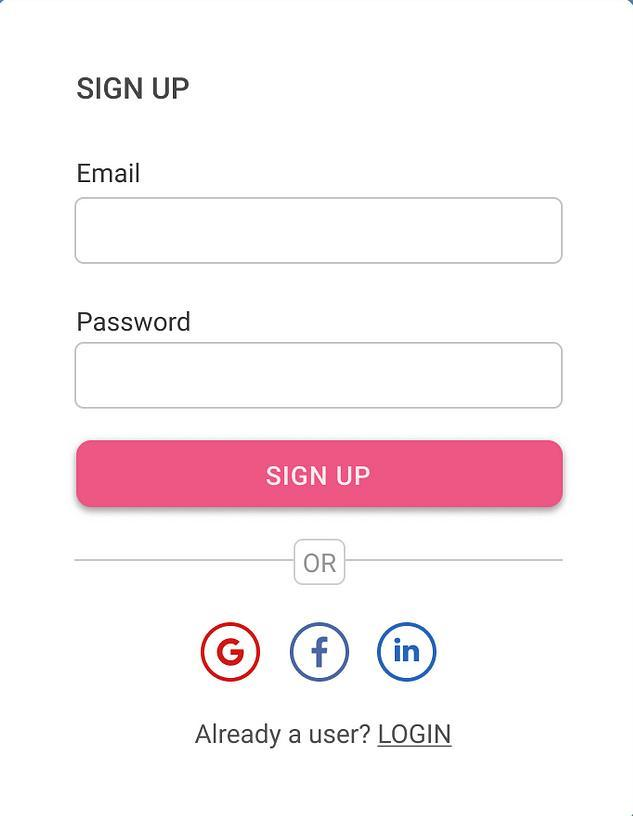button: (76, 440, 564, 510)
icon: (376, 617, 439, 685), (291, 620, 351, 684), (201, 621, 260, 684)
input: (76, 341, 565, 411), (76, 199, 564, 265), (75, 307, 194, 337)
label: (75, 72, 192, 106), (75, 159, 144, 191)
